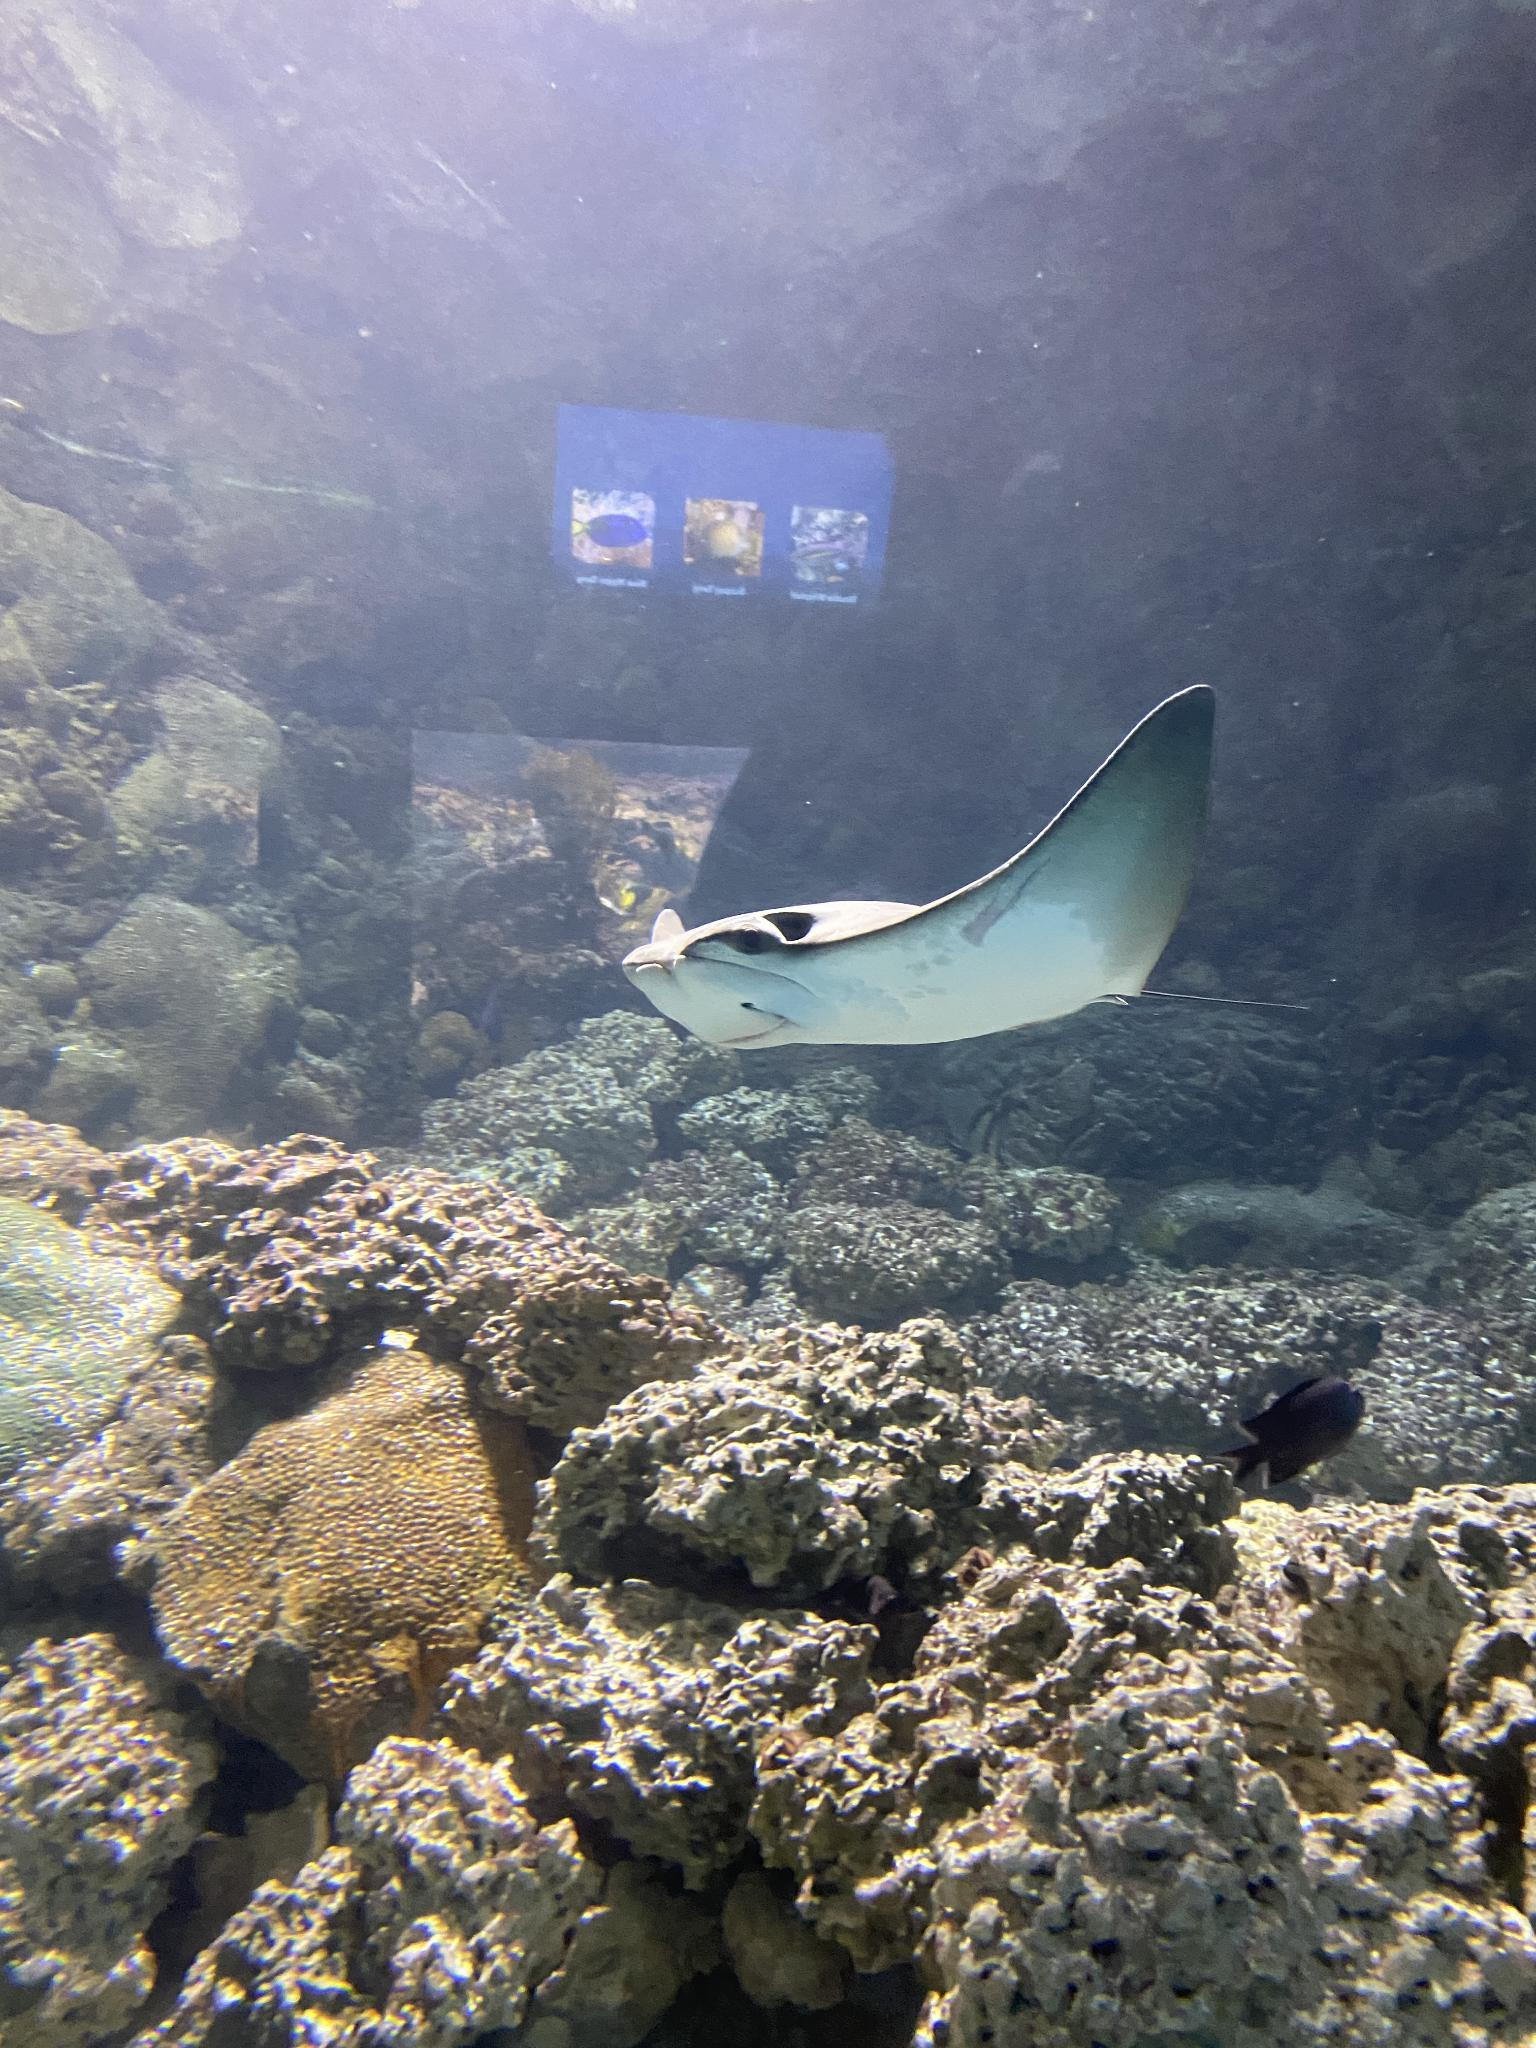fish: (1229, 1372, 1367, 1492)
stingray: (623, 681, 1217, 1053)
